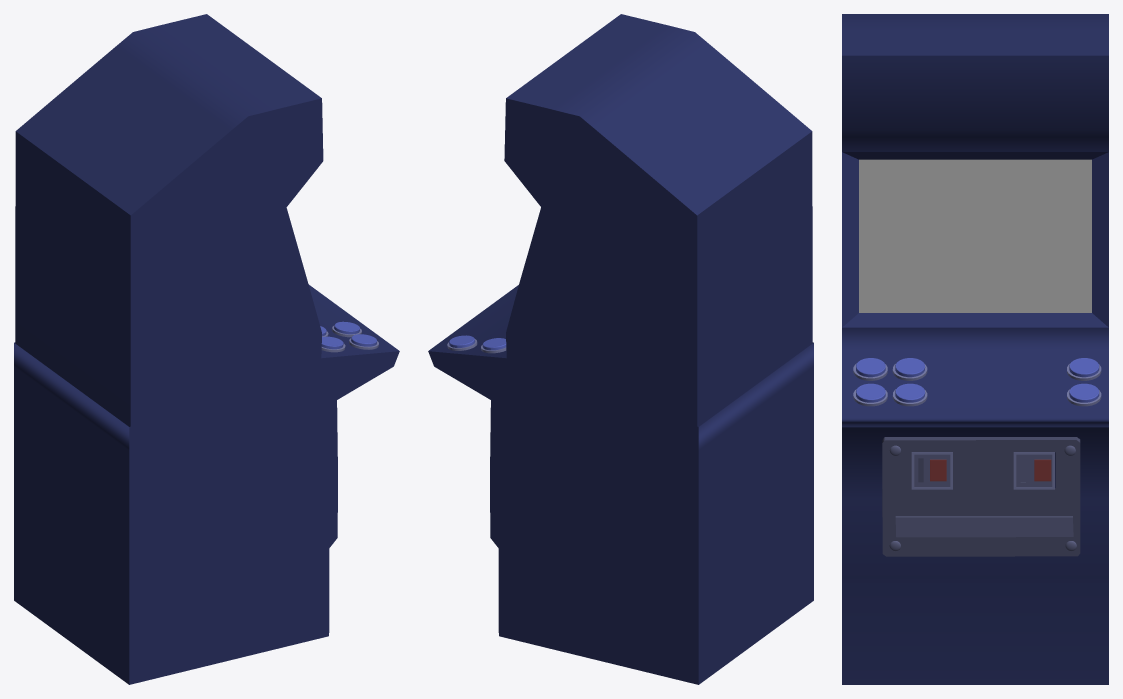
File: Arcade Machine Old.fbx
3 renders of one model, left to right at view 1: azimuth 30°, elevation 25°; view 2: azimuth 150°, elevation 25°; view 3: azimuth 270°, elevation 25°, orthographic. The views are drawn at different scales.
Visible parts, largest first — view 1: pCube1; view 2: pCube1; view 3: pCube1, pSphere5, pCylinder5, pCylinder8, pCylinder7, pCylinder9, pCylinder4, pCylinder6.
Part boxes in pixels (x1,y1,x2,y2): pCube1: (14, 14, 399, 684); pCube1: (428, 14, 813, 684); pCube1: (842, 14, 1108, 684); pSphere5: (882, 437, 1080, 556); pCylinder5: (892, 358, 927, 380); pCylinder8: (892, 383, 927, 406); pCylinder7: (853, 383, 887, 406); pCylinder9: (1067, 383, 1101, 406); pCylinder4: (1067, 358, 1101, 380); pCylinder6: (853, 358, 887, 380).
Bounding box in the file's own units: 9.23 × 17.6 × 6.81.
